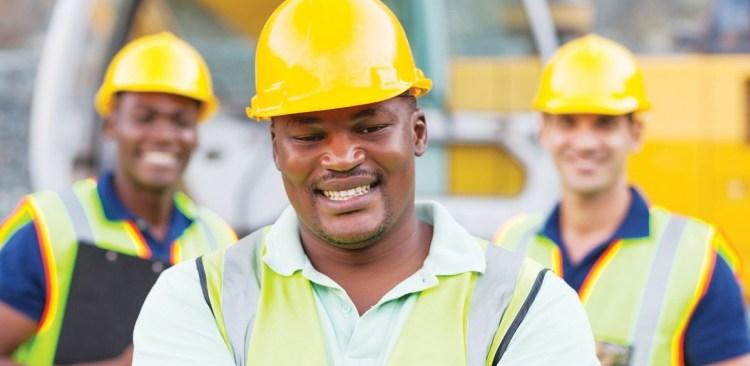helmet: (248, 1, 435, 116), (95, 33, 220, 119), (538, 34, 650, 119)
